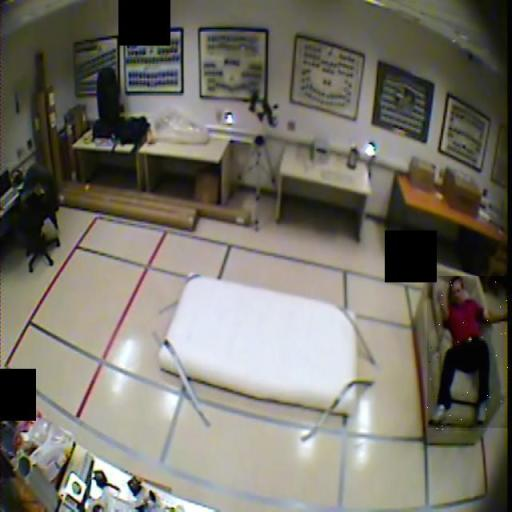Fall: (427, 277, 508, 430)
